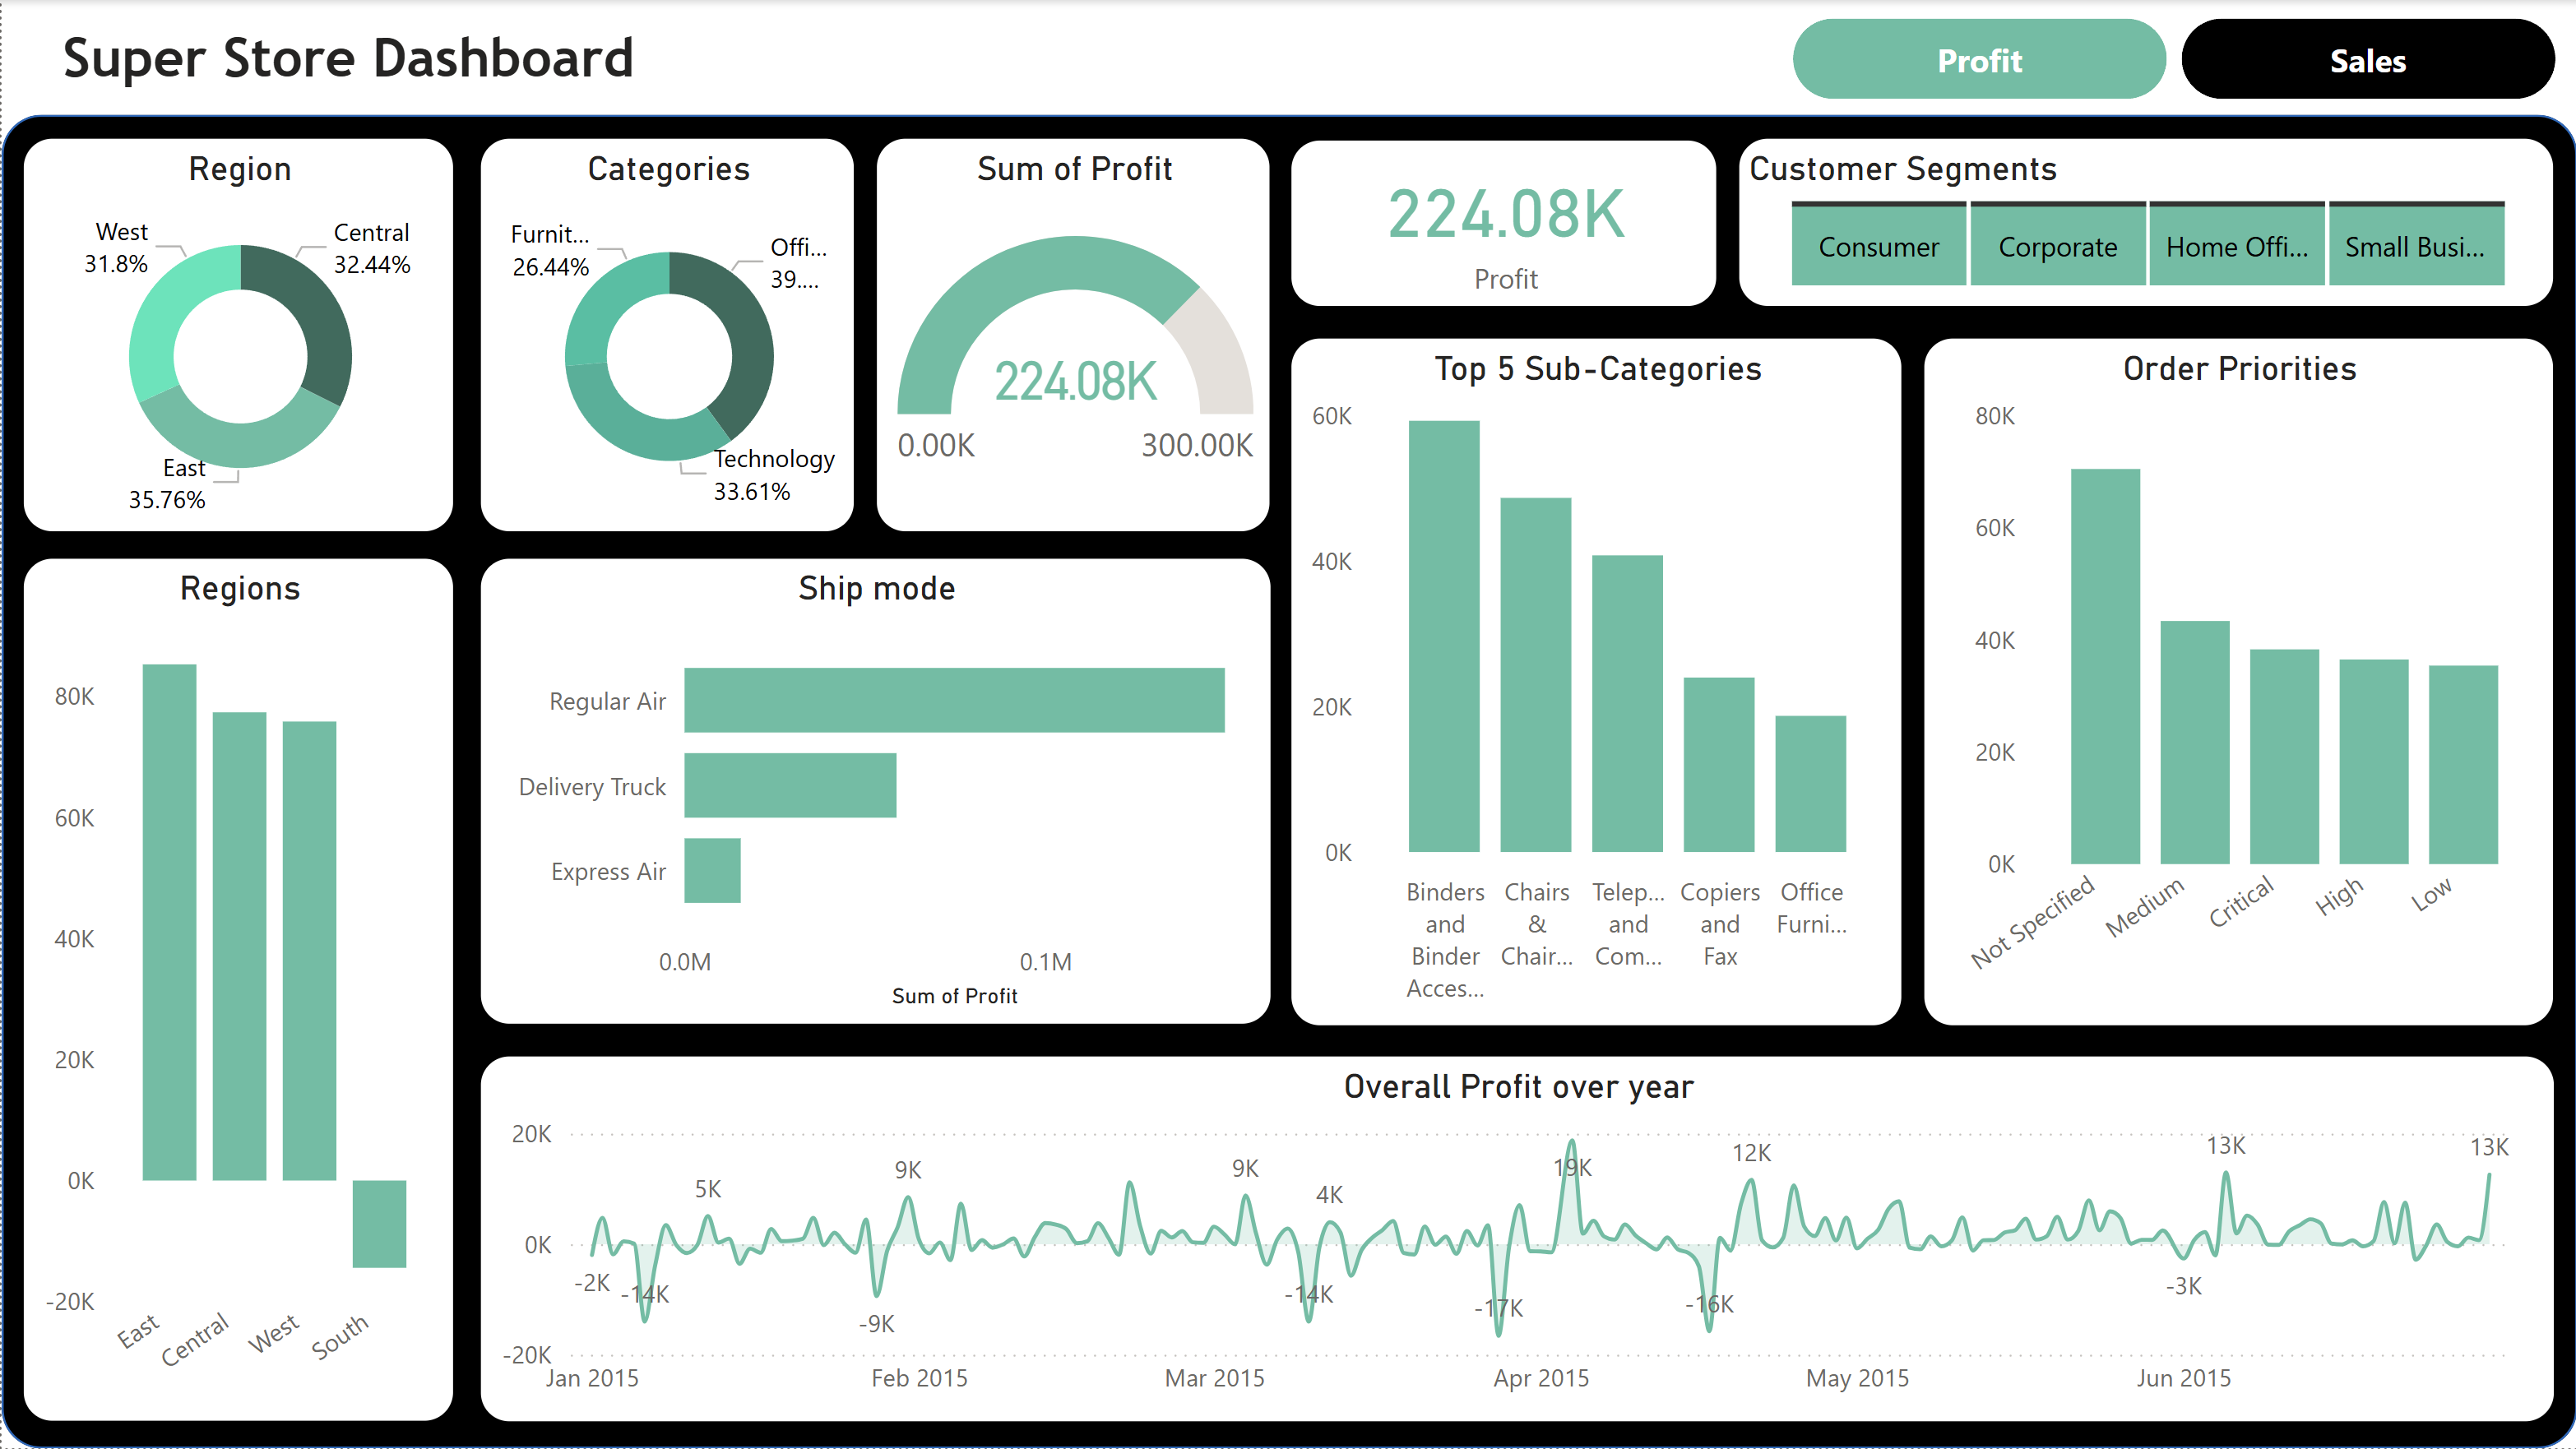

This screenshot's page, from the dashboard's own definition file:
{"tool":"powerbi","page":{"name":"Profit","canvas":[1280,720],"ordinal":0},"visuals":[{"type":"shape","box":[0,57,1280,663],"z":0},{"type":"textbox","box":[0,8,345,42],"z":1000},{"type":"donutChart","title":"Region","fields":{"Category":["Orders.Region"],"Y":["Sum(Orders.Profit)"]},"box":[10,68,215,197],"z":2000},{"type":"actionButton","box":[890,9,185.8,40],"z":3000,"group":"g1"},{"type":"group","id":"g1","title":"Group 1","box":[890,9,379,40],"z":3000},{"type":"actionButton","box":[1082.7,9,185.8,40],"z":4000,"group":"g1"},{"type":"donutChart","title":"Categories","fields":{"Category":["Orders.Product Category"],"Y":["Sum(Orders.Profit)"]},"box":[237,68,187,197],"z":4000},{"type":"areaChart","title":"Overall Profit over year","fields":{"Category":["Orders.Order Date"],"Y":["Sum(Orders.Profit)"]},"box":[237,524,1032,183],"z":5000},{"type":"columnChart","title":"Regions","fields":{"Category":["Orders.Region"],"Y":["Sum(Orders.Profit)"]},"box":[10,277,215,430],"z":6000},{"type":"clusteredBarChart","title":"Ship mode","fields":{"Category":["Orders.Ship Mode"],"Y":["Sum(Orders.Profit)"]},"box":[237,277,394,233],"z":7000},{"type":"columnChart","title":"Top 5 Sub-Categories","fields":{"Category":["Orders.Product Sub-Category"],"Y":["Sum(Orders.Profit)"]},"box":[640,167,305,343],"z":8000},{"type":"slicer","title":"Customer Segments","fields":{"Values":["Orders.Customer Segment"]},"box":[863,68,406,85],"z":9000},{"type":"columnChart","title":"Order Priorities","fields":{"Category":["Orders.Order Priority"],"Y":["Sum(Orders.Profit)"]},"box":[955,167,314,343],"z":10000},{"type":"card","fields":{"Values":["Sum(Orders.Profit)"]},"box":[640,69,213,84],"z":11000},{"type":"gauge","fields":{"Y":["Sum(Orders.Profit)"]},"box":[434,68,197,197],"z":12000}]}

Visuals, with their boxes in screenshot pixels (x1, y1, x2, y2), scaled from the page's 1280x720 canvas onto the 2576x1449 screenshot:
shape: 0:114:2575:1448
textbox: 0:16:694:100
"Region" donutChart: 20:137:453:534
actionButton: 1791:18:2165:99
"Group 1" group: 1791:18:2554:99
actionButton: 2179:18:2553:99
"Categories" donutChart: 477:137:853:534
"Overall Profit over year" areaChart: 477:1054:2554:1423
"Regions" columnChart: 20:558:453:1423
"Ship mode" clusteredBarChart: 477:558:1270:1026
"Top 5 Sub-Categories" columnChart: 1288:336:1902:1026
"Customer Segments" slicer: 1737:137:2554:308
"Order Priorities" columnChart: 1922:336:2554:1026
card - Sum(Orders.Profit): 1288:139:1717:308
gauge - Sum(Orders.Profit): 873:137:1270:534
